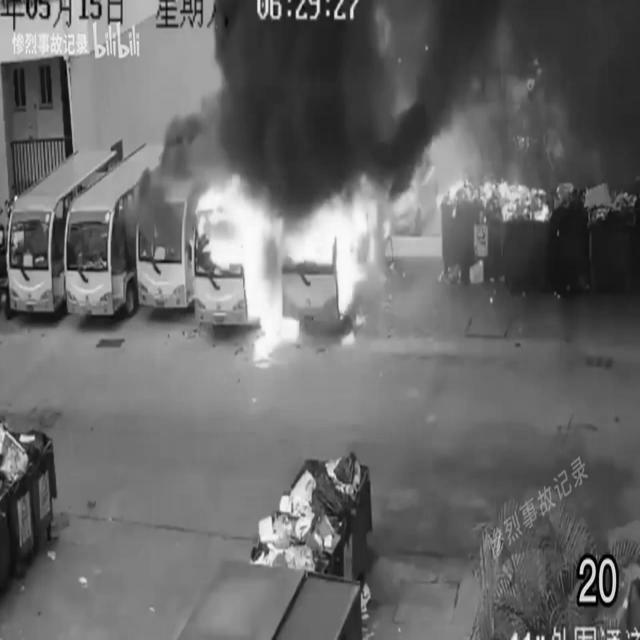accident: (195, 153, 398, 342)
vehicle: (4, 146, 115, 324), (69, 147, 164, 321), (141, 147, 193, 320)
